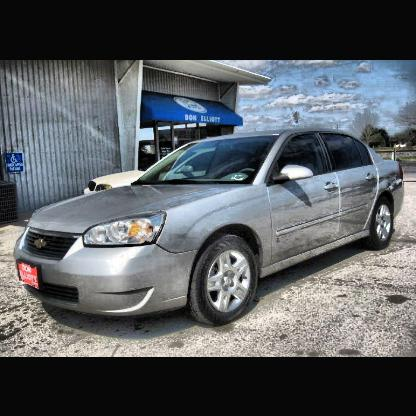Chevrolet Malibu Sedan 2007: (11, 119, 412, 337)
